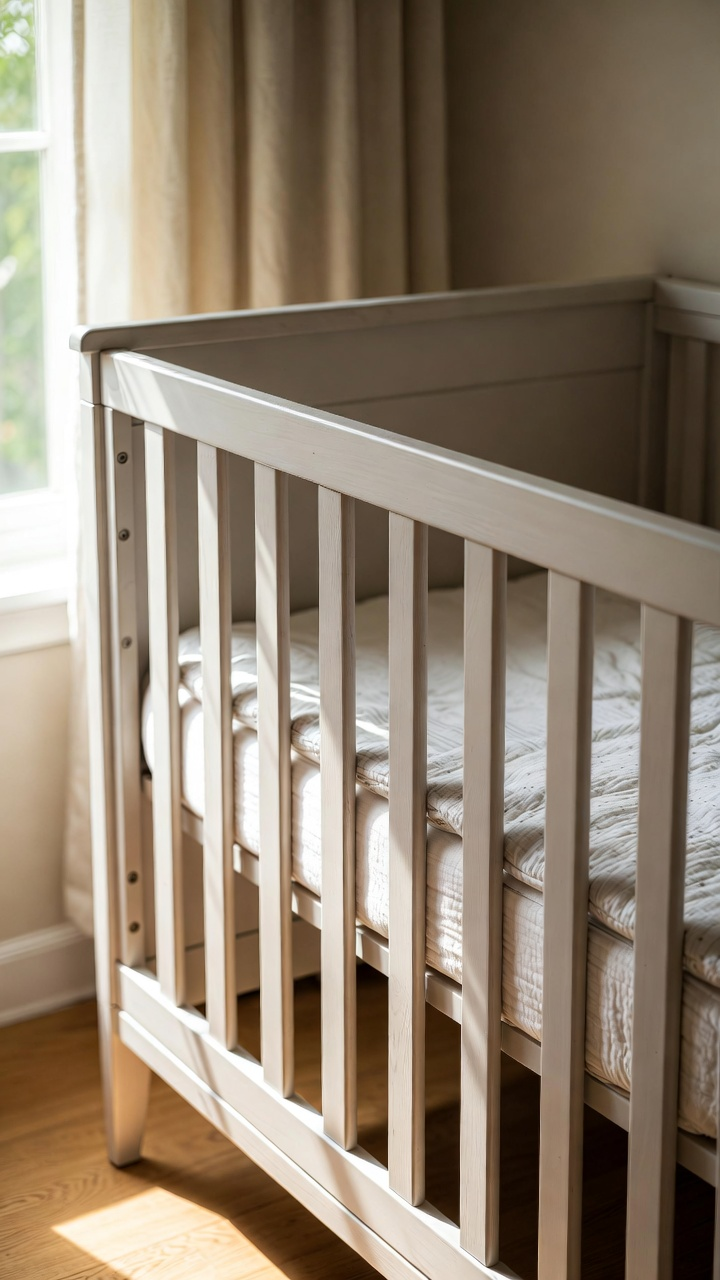crib: (70, 273, 720, 1280)
